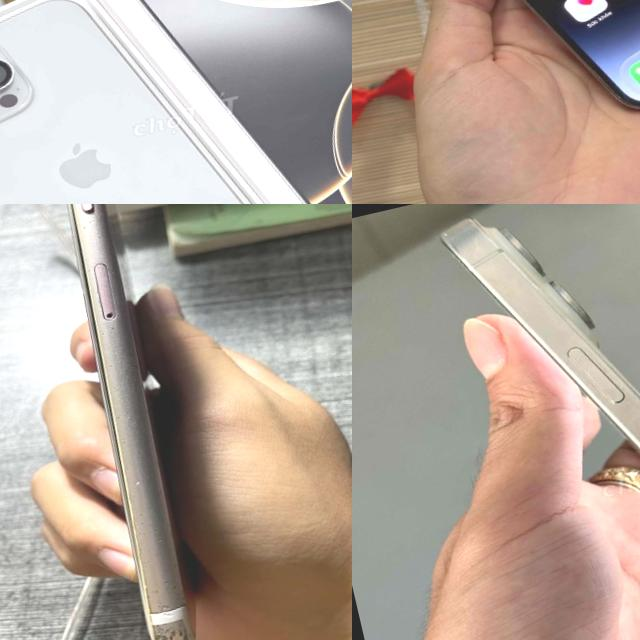gen_14: (358, 0, 640, 154)
gen_15: (400, 204, 640, 640)
gen_16: (0, 0, 247, 204)
gen_7_8: (7, 204, 237, 640)
scratch: (134, 598, 204, 640), (118, 463, 152, 492), (438, 228, 453, 238)
